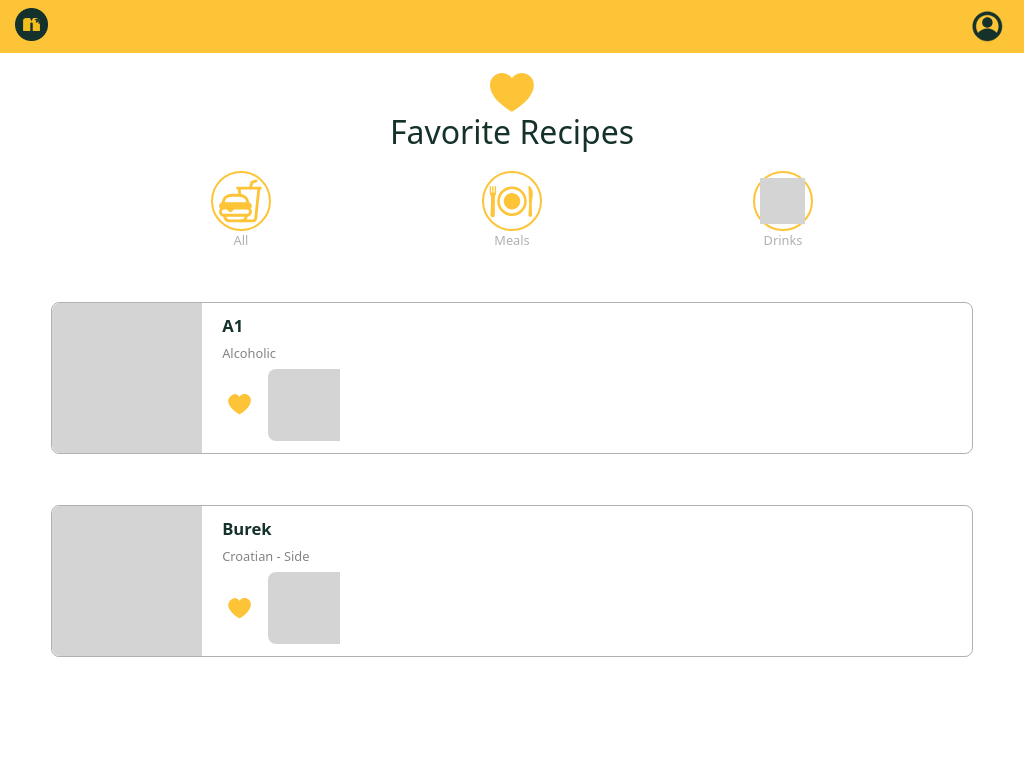
it: Testa a tela pricipal › Verifica se ao clicar no coração a bebida é desvaforitada
Click the button with test id "0-horizontal-favorite-btn" at [240, 405], box [222,393,257,416]
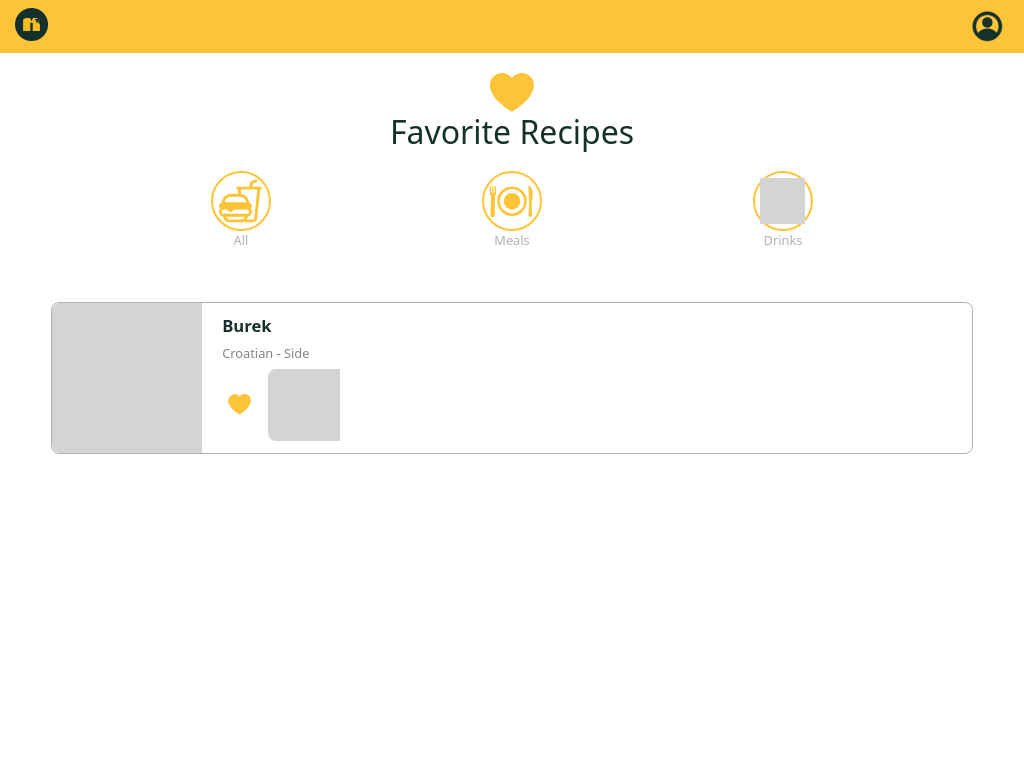
Expected: the link "A1" is gone
